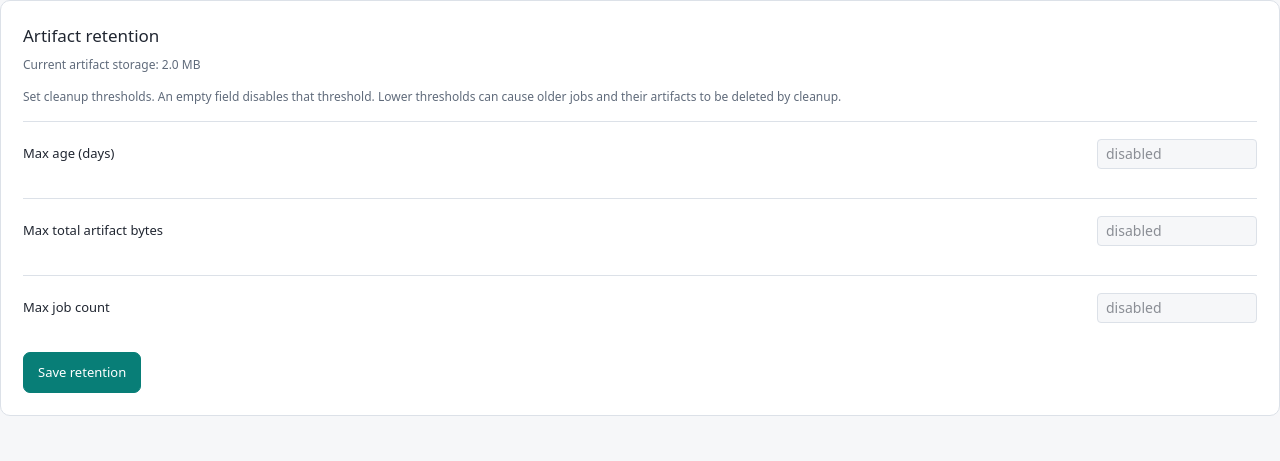
Test: a negative value shows a validation error instead of saving
Expected: the text "Current artifact storage: 2.0 MB" is shown, [23,56,200,72]
In the field labelled "Max age (days)": (1177, 154) [1097,138,1257,168], type "-1"
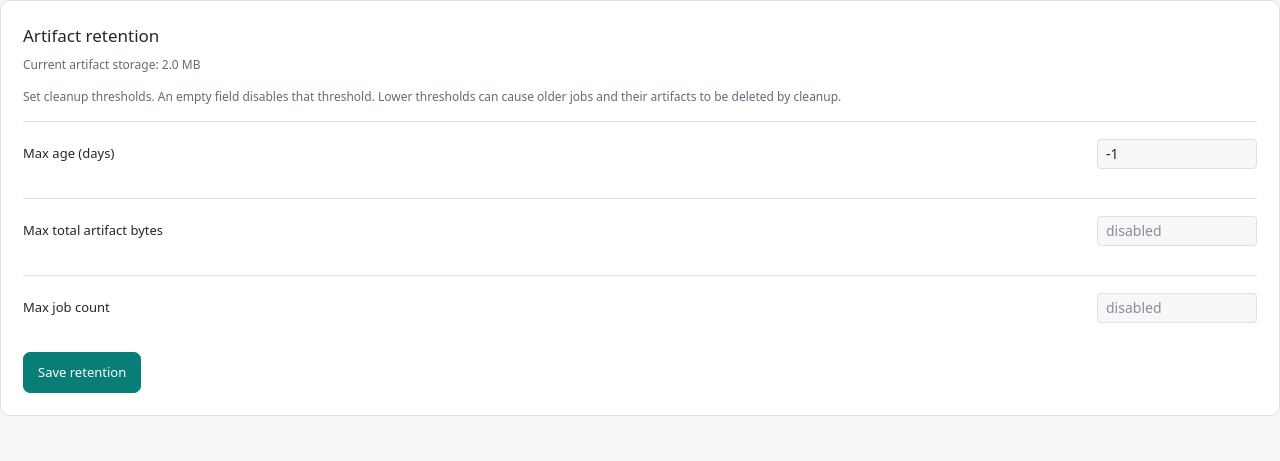
Click the button "Save retention": (82, 372) [23,352,141,393]
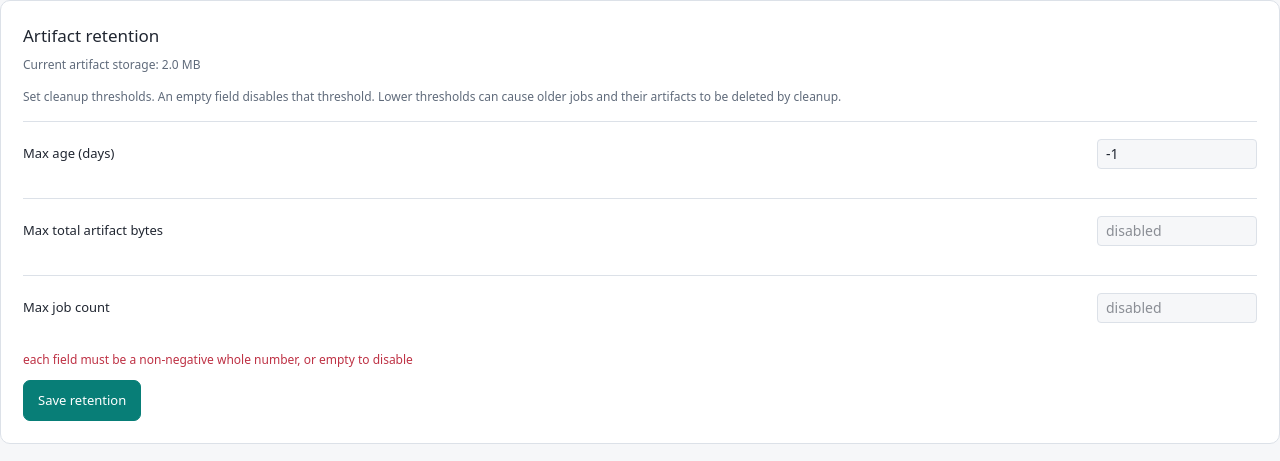
Now the text "non-negative whole number" is shown, box [23,350,413,368]
